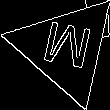M_S: (37, 19, 94, 78)
